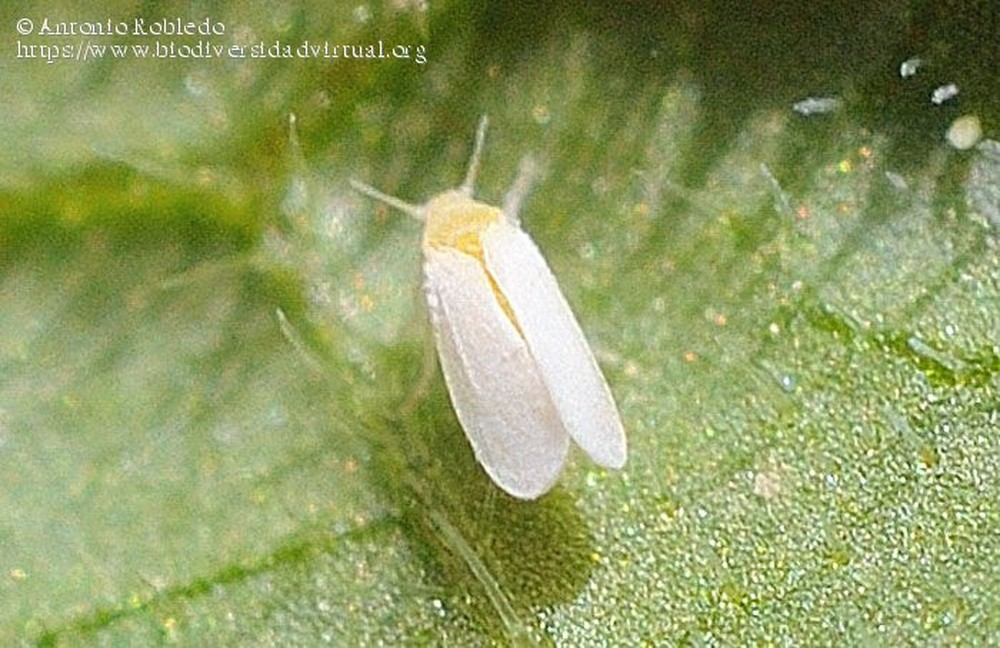Mosca Blanca: (339, 119, 660, 513)
